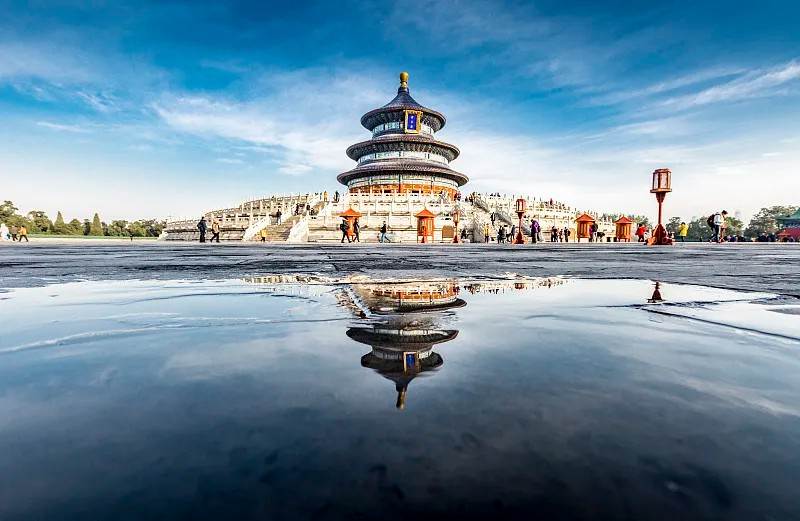Heaven: (336, 71, 469, 199)
